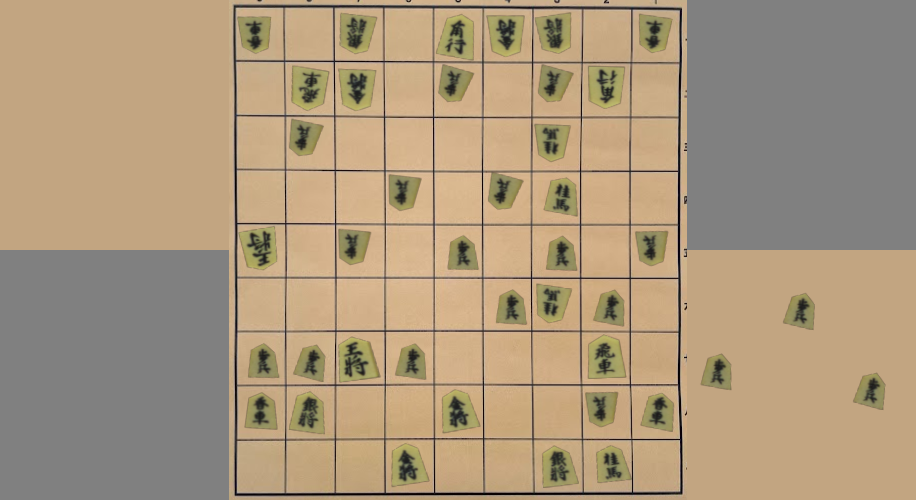A: (333, 333, 388, 387), (584, 332, 630, 384), (437, 387, 487, 434), (434, 11, 476, 64), (537, 444, 582, 491), (591, 444, 633, 489), (388, 443, 431, 486), (288, 390, 330, 433), (542, 176, 582, 221), (242, 344, 283, 387), (637, 392, 675, 435), (242, 389, 281, 429), (394, 340, 432, 380), (444, 234, 482, 274), (591, 286, 627, 327), (293, 342, 329, 383), (492, 289, 530, 327), (543, 234, 580, 273)
B: (335, 63, 384, 114), (482, 11, 527, 60), (337, 9, 382, 57), (289, 64, 333, 113), (237, 227, 282, 273), (633, 11, 677, 58), (585, 63, 627, 110), (233, 14, 275, 60), (533, 280, 576, 324), (532, 11, 575, 54), (582, 387, 624, 431), (531, 121, 573, 165), (436, 66, 481, 106), (485, 168, 525, 213), (335, 224, 374, 270), (385, 173, 428, 214), (287, 118, 327, 160), (536, 63, 576, 103), (633, 228, 672, 269)
C: (698, 350, 738, 394), (854, 367, 892, 413), (782, 289, 820, 334)
